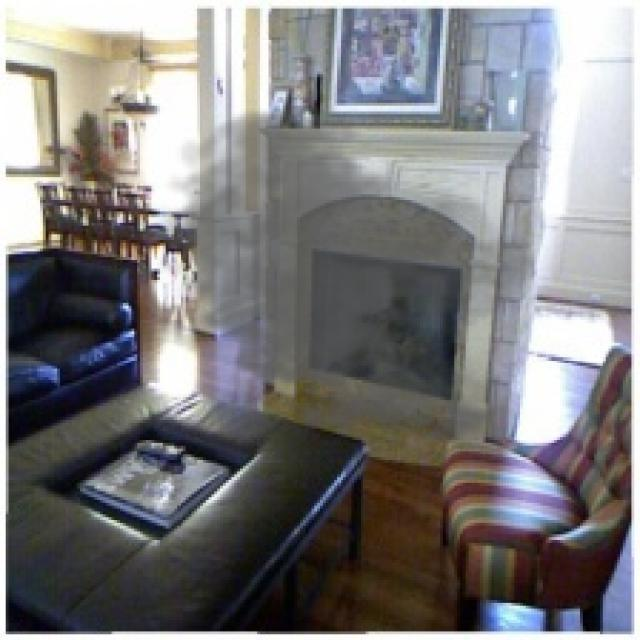Smoke: (146, 102, 534, 454)
